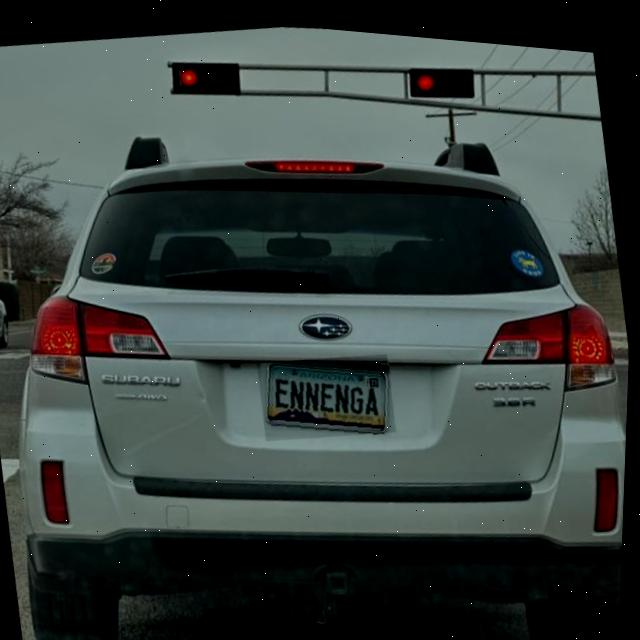LicensePlate: (267, 358, 393, 426)
